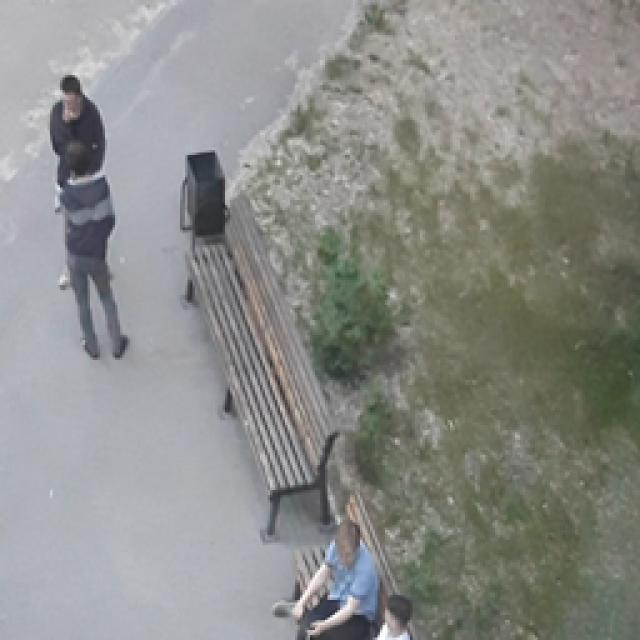person: (55, 140, 122, 355), (270, 518, 375, 635), (48, 75, 102, 188), (375, 595, 408, 635), (55, 272, 68, 288)
